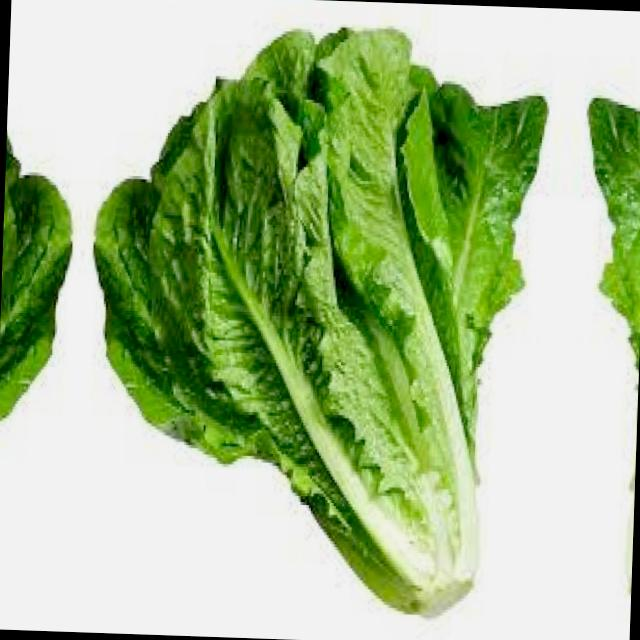healthy: (80, 13, 550, 619), (0, 9, 81, 602), (569, 29, 640, 622)
